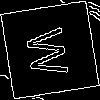W: (25, 24, 79, 79)
